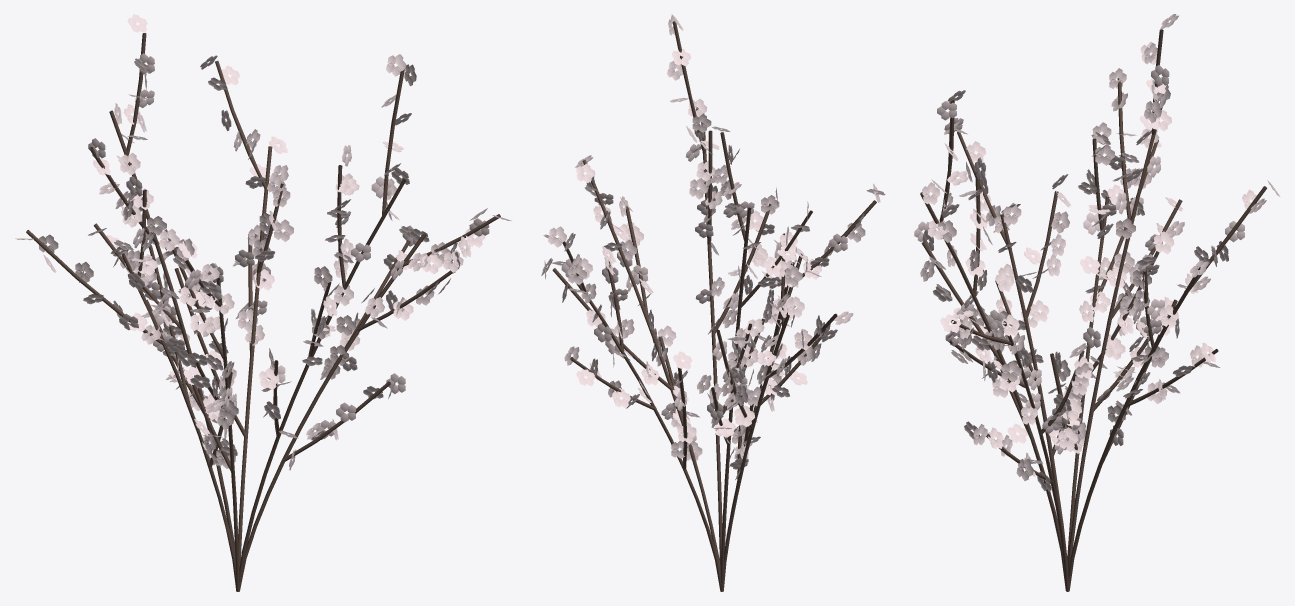
Rendered from blossom-1.glb.
3 renders of one model, left to right at view 1: azimuth 30°, elevation 25°; view 2: azimuth 150°, elevation 25°; view 3: azimuth 270°, elevation 25°, orthographic. The views are drawn at different scales.
Parts seen in each view (by area): view 1: blossom-leaves, blossom-stems; view 2: blossom-leaves, blossom-stems; view 3: blossom-leaves, blossom-stems.
Part boxes in pixels (x1,y1,x2,y2): blossom-leaves: (15,14,511,470); blossom-stems: (26,33,500,591); blossom-leaves: (541,14,885,479); blossom-stems: (552,21,876,591); blossom-leaves: (914,14,1280,491); blossom-stems: (920,29,1266,591).
Bounding box in the file's own units: 0.606 × 0.8097 × 0.4858.
